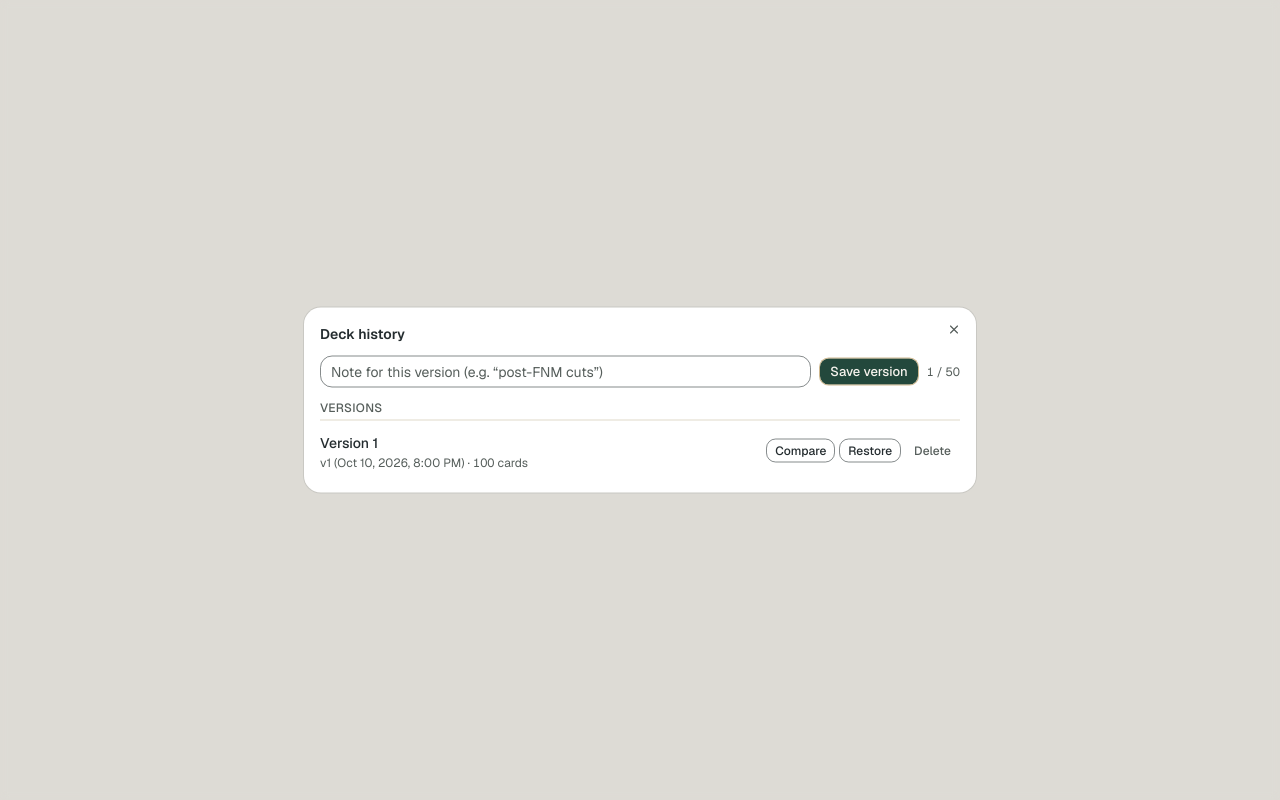
Test: HistoryDialog — Compare, Restore, Delete › Compare against the same cards says so — tags and printings aren't compared
The image size is (1280, 800).
Expected: the dialog "Deck history" shows "version 1", [320,434,378,452]
Click the button "Compare". click: [801, 450]
box: [766,438,835,462]
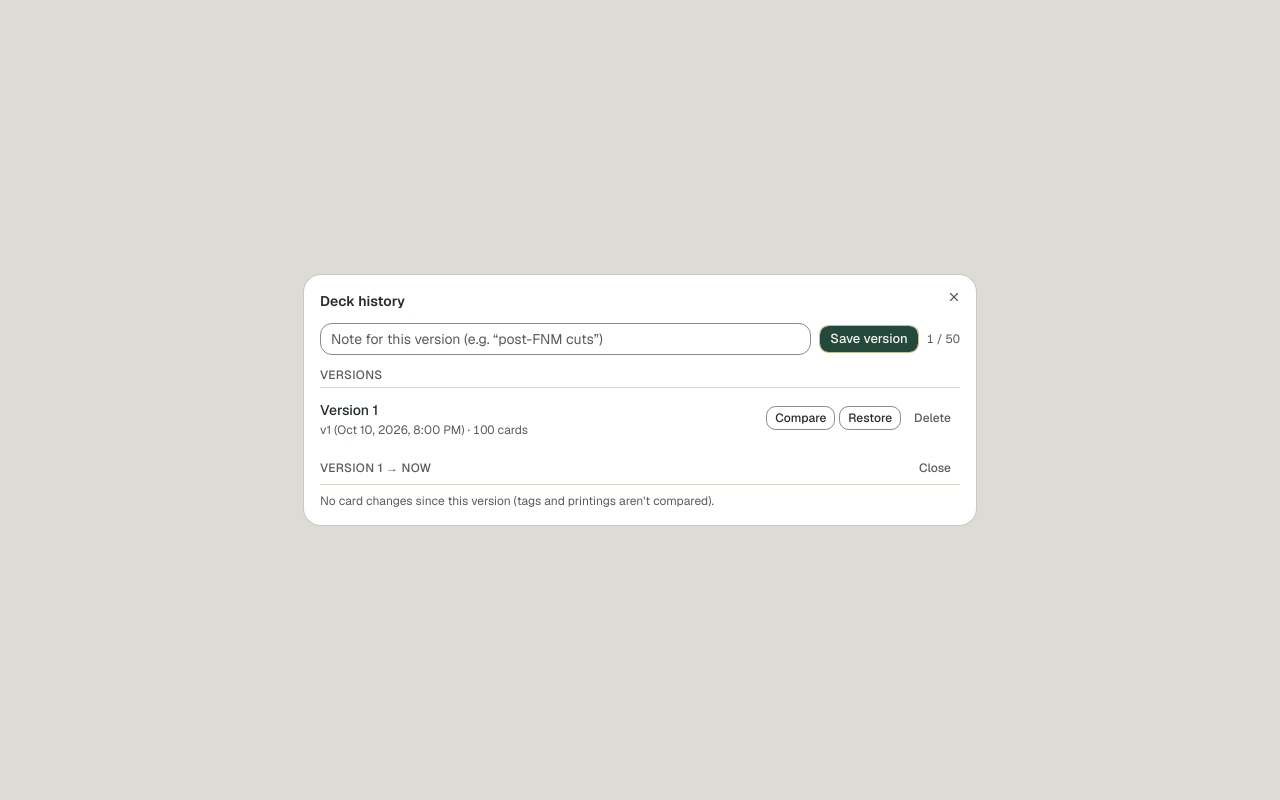
Expected: the dialog "Deck history" shows "No card changes since this version (tags and printings aren't compared).", [320,493,714,509]
